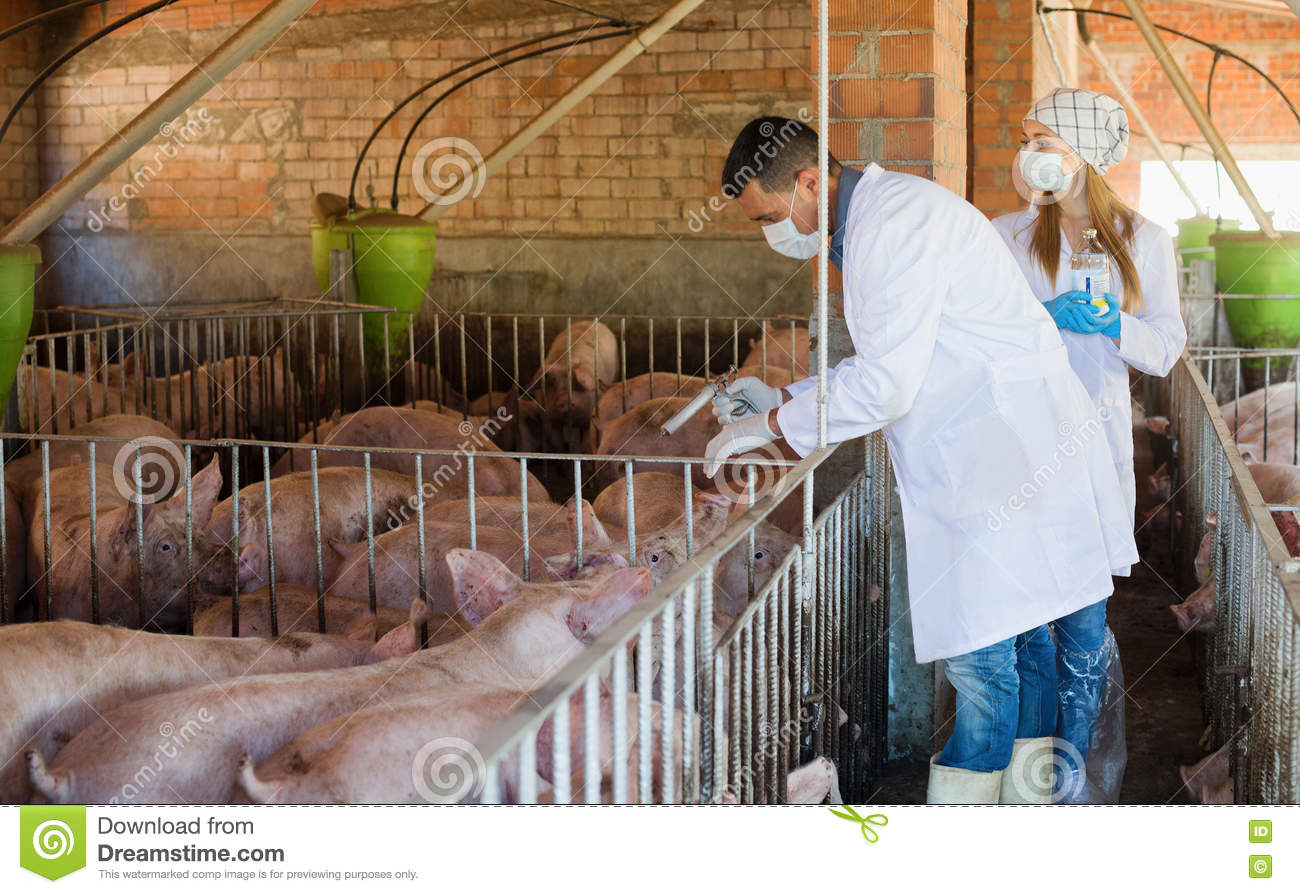mask: (753, 218, 824, 261), (1021, 146, 1073, 198)
